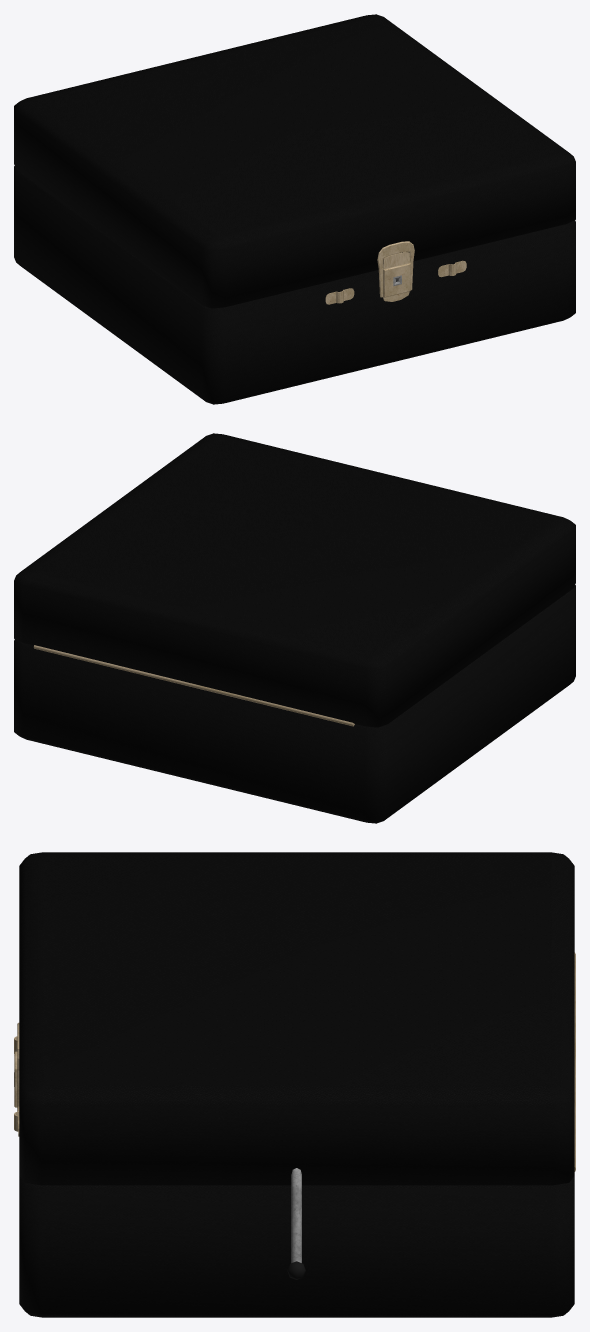
File: VV250TalkingMachine.gltf
3 renders of one model, top to bottom at view 1: azimuth 30°, elevation 25°; view 2: azimuth 150°, elevation 25°; view 3: azimuth 270°, elevation 25°, orthographic. The views are drawn at different scales.
Visible parts, largest first — view 1: VV 2-50 Lid, VV 2-50 Base, Lock_Clamp; view 2: VV 2-50 Lid, VV 2-50 Base, Hinge; view 3: VV 2-50 Lid, VV 2-50 Base, Crank.001.
Boxes of the visible parts, x1,y1,x2,y2 form: VV 2-50 Lid: (14, 14, 575, 308); VV 2-50 Base: (14, 166, 575, 404); Lock_Clamp: (377, 241, 414, 297); VV 2-50 Lid: (14, 433, 575, 727); VV 2-50 Base: (14, 585, 575, 823); Hinge: (33, 645, 354, 726); VV 2-50 Lid: (19, 852, 574, 1185); VV 2-50 Base: (14, 1036, 574, 1317); Crank.001: (287, 1168, 305, 1279).
Bounding box in the file's own units: 0.5031 × 0.178 × 0.3985.
Materials: 14 (8 with a texture image).
